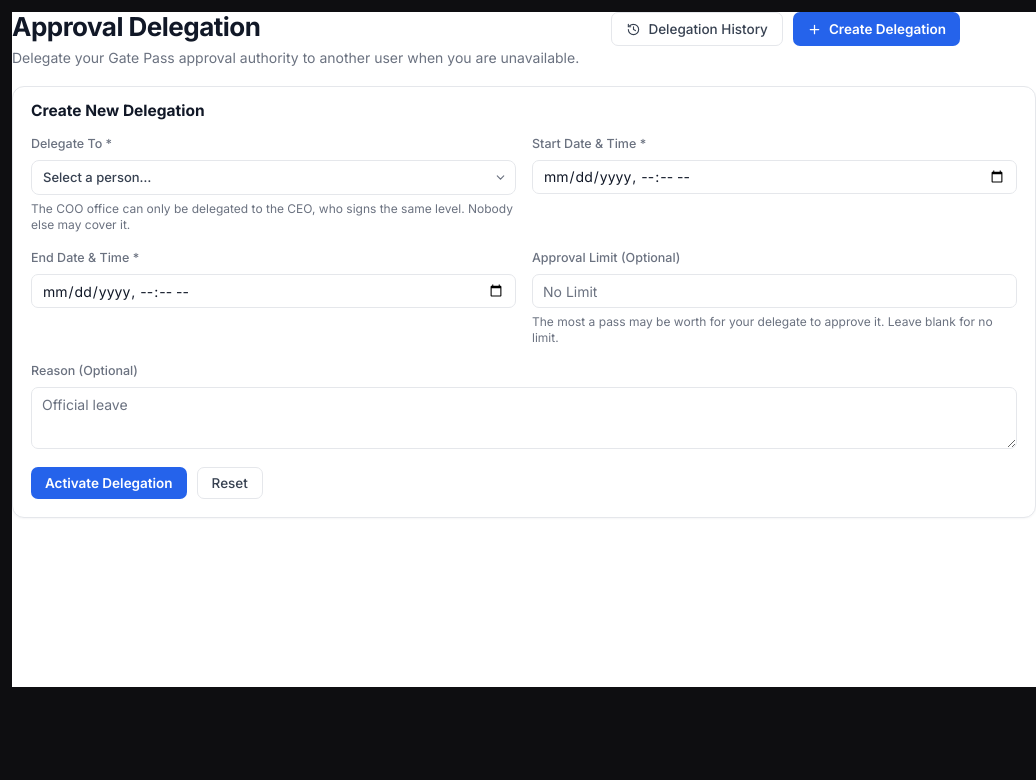
Scenario: Approval Delegation › refuses to submit an empty form and never reaches the RPC
Click the button "Activate Delegation". click: x=109, y=483
box: top-left (31, 467), bottom-right (187, 499)
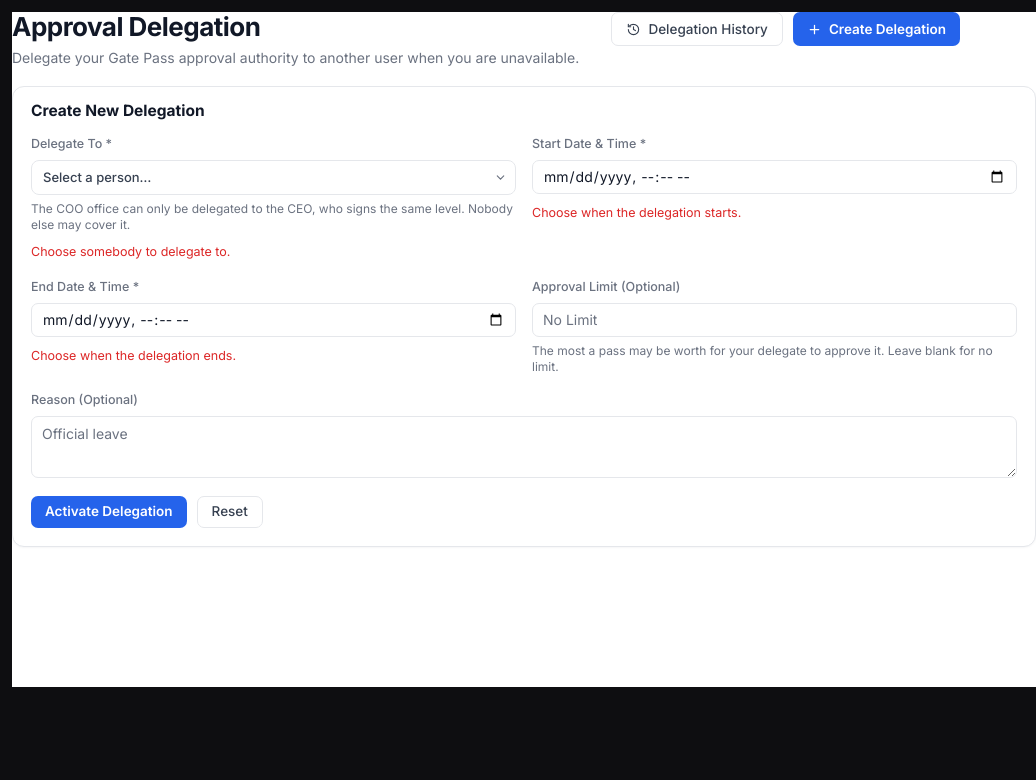
Now the text "Choose somebody to delegate to." is shown, box top-left (31, 244), bottom-right (230, 259)
